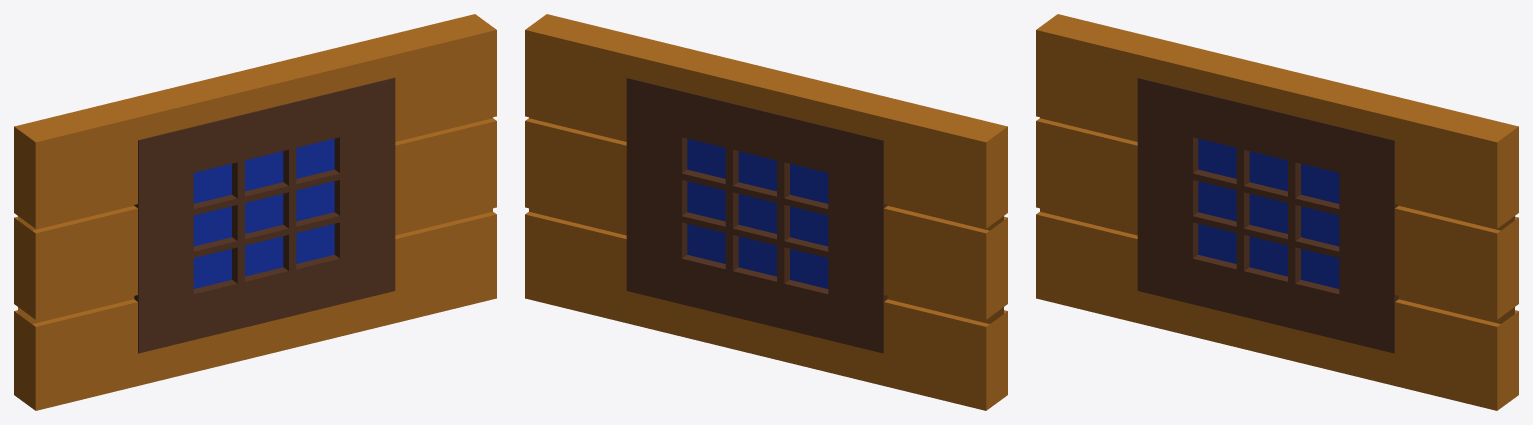
Rendered from Window01_house5.obj.
3 views of the same model, side by side, from view 1: azimuth 30°, elevation 25°; view 2: azimuth 150°, elevation 25°; view 3: azimuth 330°, elevation 25° (orthographic).
Parts seen in each view (by area): view 1: Window01_house05_Cube.012; view 2: Window01_house05_Cube.012; view 3: Window01_house05_Cube.012.
Boxes of the visible parts, x1,y1,x2,y2 form: Window01_house05_Cube.012: [14, 14, 496, 410]; Window01_house05_Cube.012: [525, 14, 1007, 410]; Window01_house05_Cube.012: [1036, 14, 1518, 410].
Size of the model in its own units: 3.19 by 1.77 by 0.2743.
